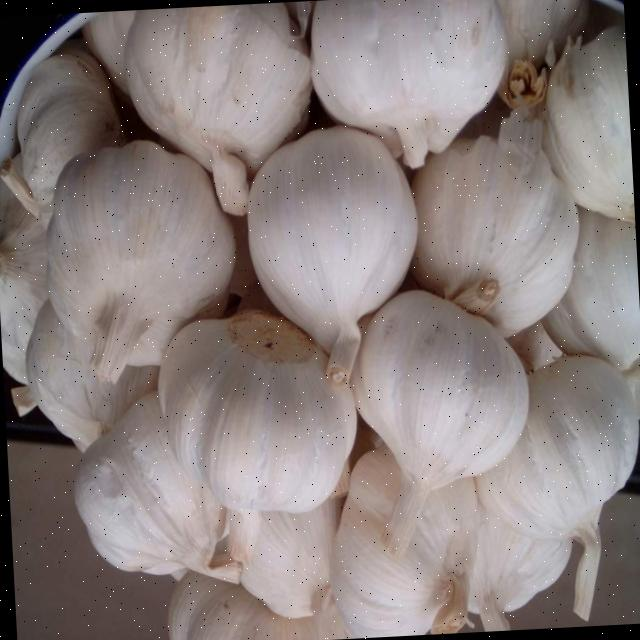garlic: (158, 310, 356, 563), (351, 291, 528, 558), (46, 142, 234, 381), (248, 127, 417, 386), (475, 354, 638, 618), (123, 3, 310, 214), (410, 109, 578, 337), (311, 0, 505, 167), (73, 391, 241, 583), (329, 445, 477, 638), (543, 26, 635, 222)
